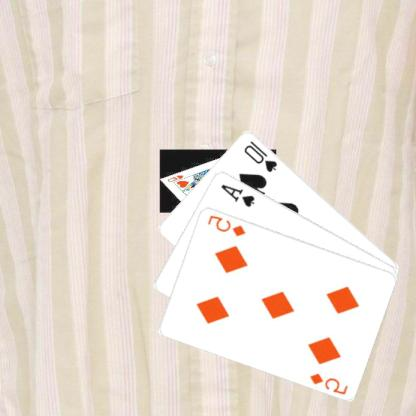10S: (243, 137, 280, 174)
5D: (206, 212, 249, 238), (308, 370, 351, 396)
AS: (220, 181, 258, 208)
